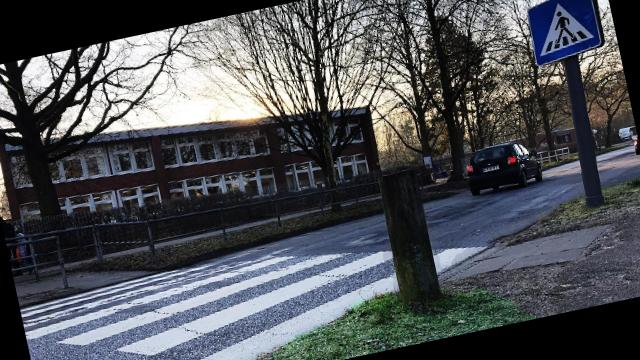crosswalk-sign: (521, 1, 608, 68)
